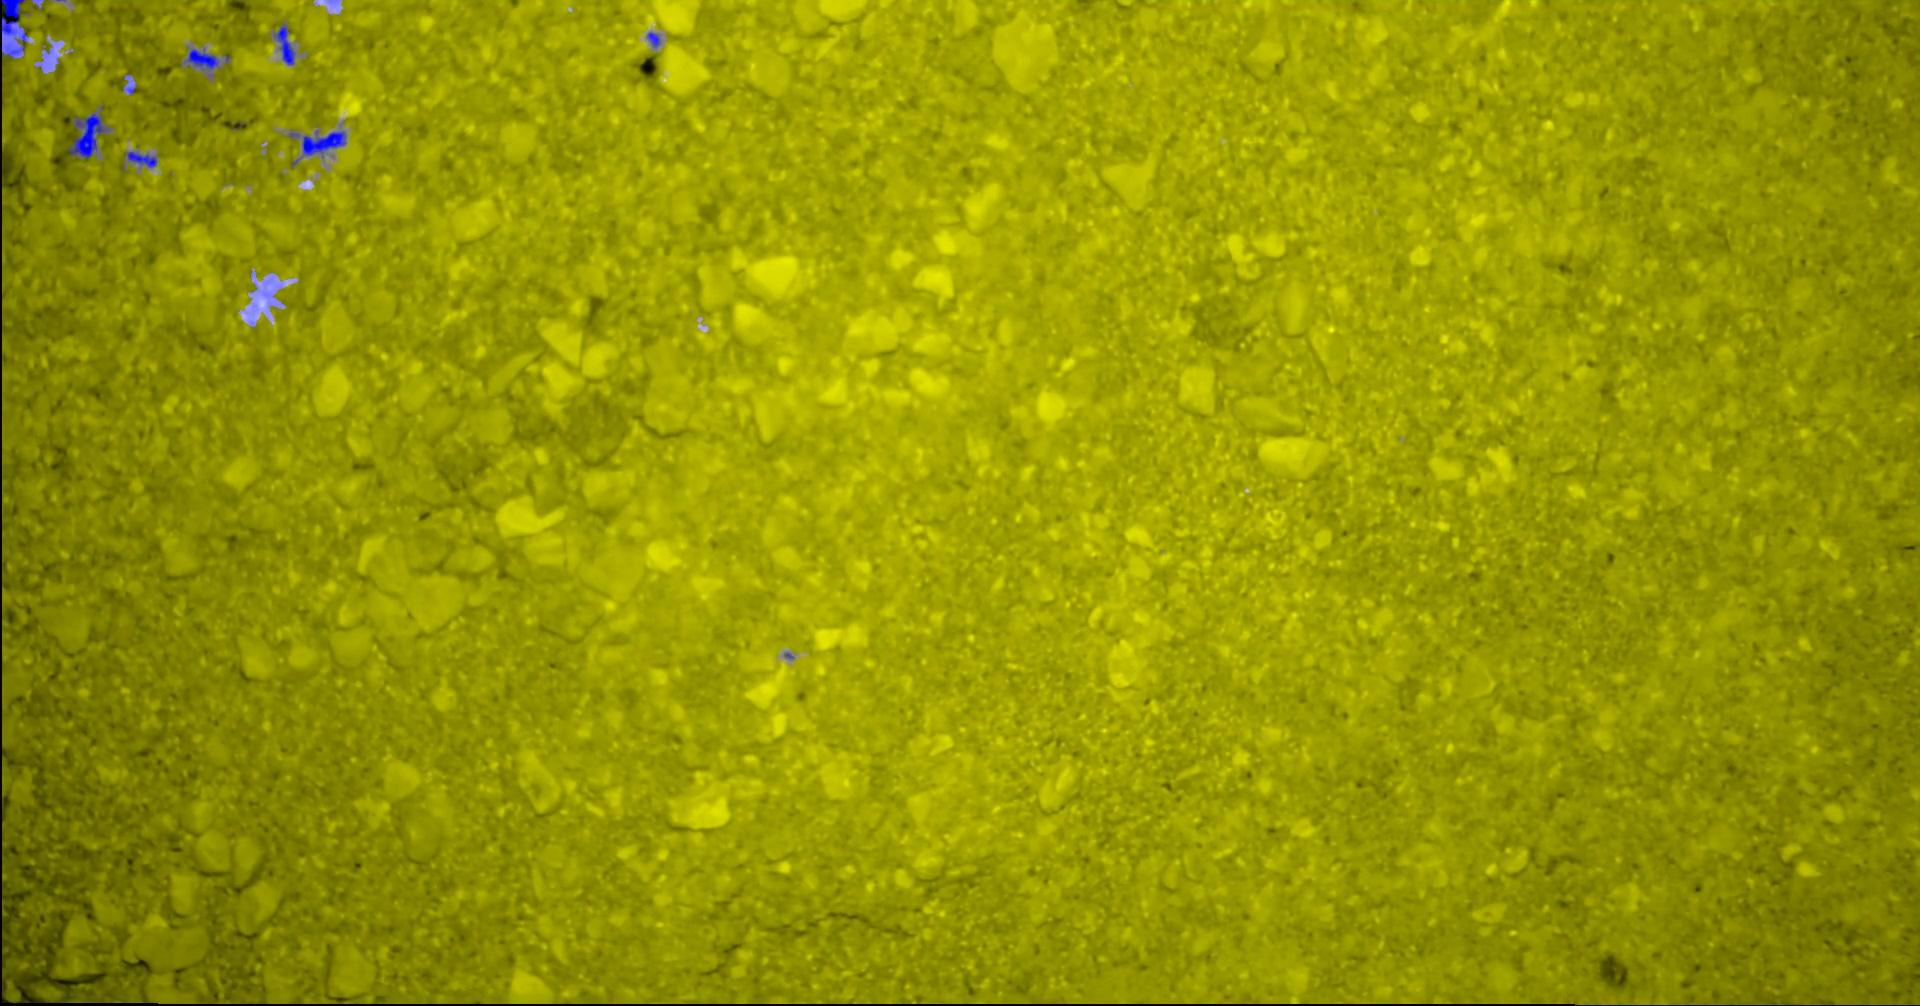ant: (67, 113, 108, 158), (0, 0, 27, 58), (290, 130, 345, 155), (273, 24, 295, 64), (185, 48, 218, 69), (124, 151, 156, 166), (646, 30, 659, 47)
